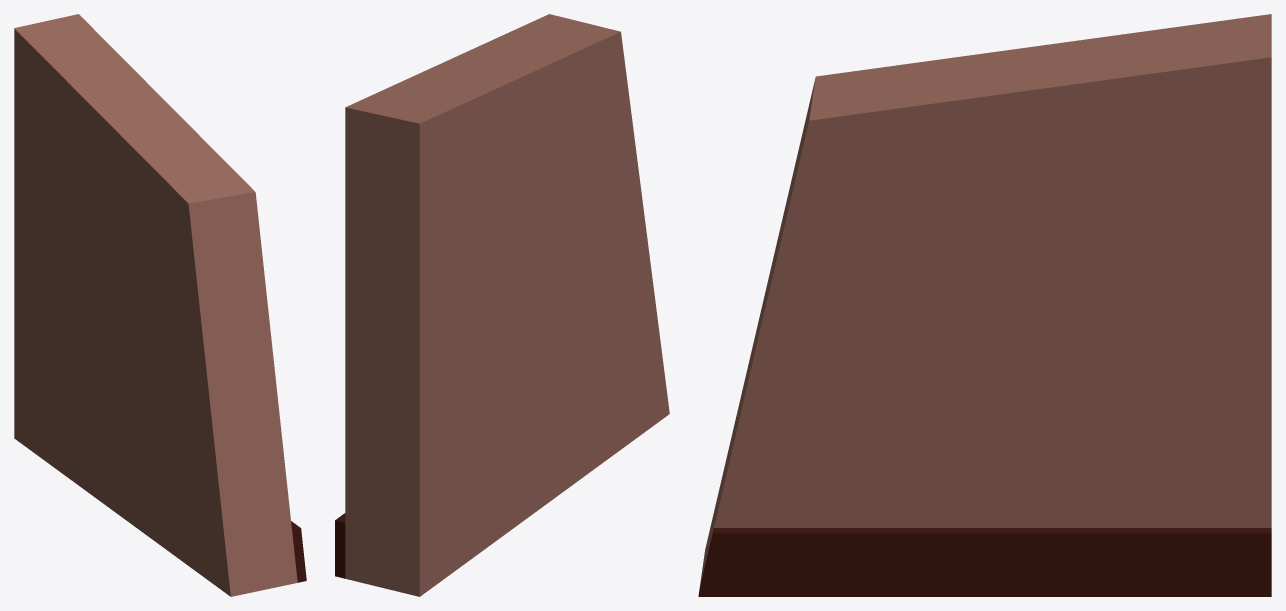
Rendered from T_MurDetruit_6.9.fbx.
3 renders of one model, left to right at view 1: azimuth 30°, elevation 25°; view 2: azimuth 150°, elevation 25°; view 3: azimuth 270°, elevation 25°, orthographic. The views are drawn at different scales.
Visible parts, largest first — view 1: T_MurDetruit_6.9; view 2: T_MurDetruit_6.9; view 3: T_MurDetruit_6.9.
Part boxes in pixels (<box>): T_MurDetruit_6.9: <box>14,14,306,596</box>; T_MurDetruit_6.9: <box>335,14,669,596</box>; T_MurDetruit_6.9: <box>698,14,1271,596</box>.
Size of the model in its own units: 15.31 by 81.79 by 79.25.
